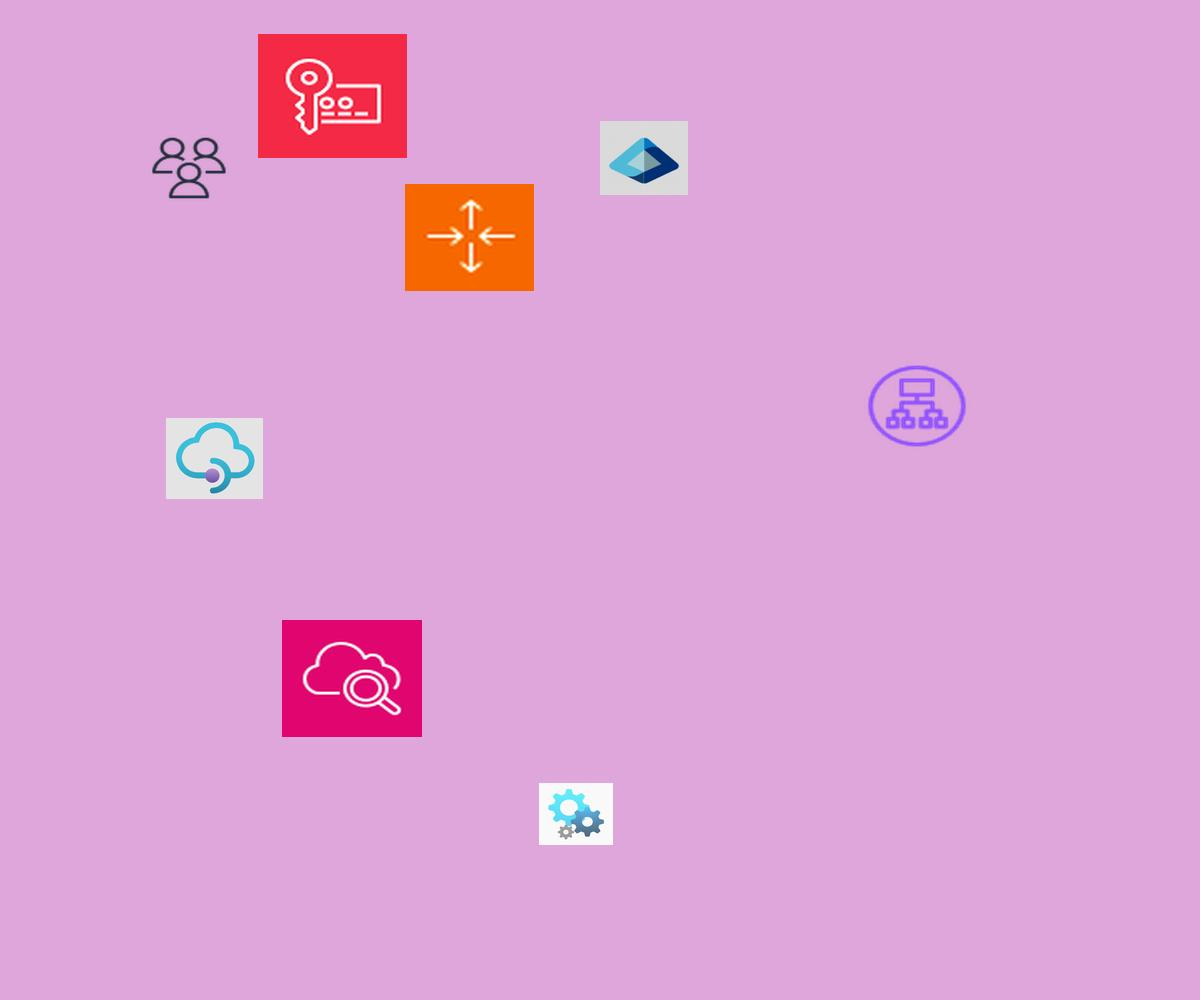AWS-CloudWatch: (282, 620, 422, 737)
AWS-Key-Management-Service: (258, 34, 407, 158)
AWS-Res_Elastic-Load-Balancing_Application-Load-Balancer: (864, 362, 970, 450)
AWS-Res_Users: (149, 135, 229, 201)
AWS-Scaling-group: (405, 184, 534, 291)
Azure_api: (539, 783, 613, 845)
Azure_api_gateway: (166, 418, 263, 499)
Azure_microsoft_entra: (600, 121, 688, 195)
